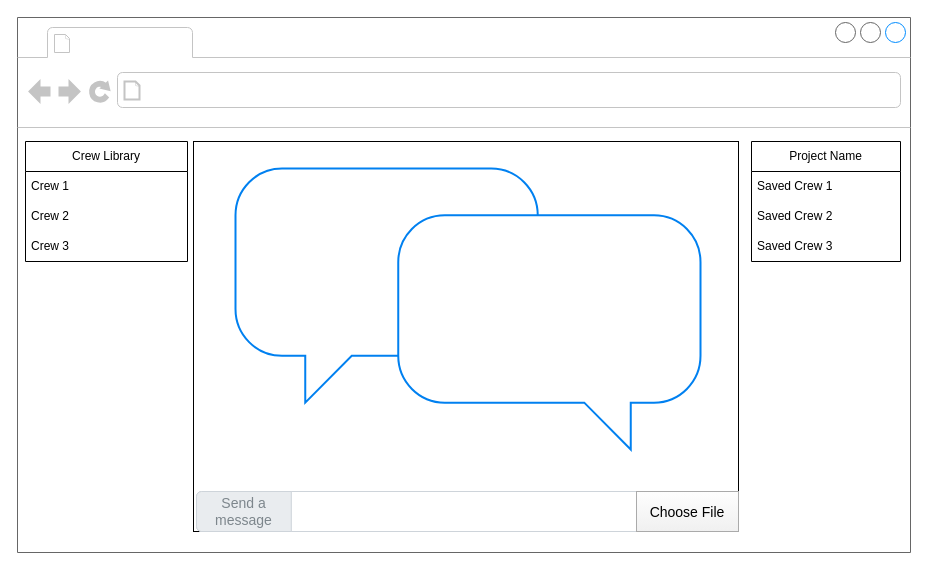
This 928x570 diagram has some shape labels left out. Here are the shapes that lost their labels. From the top down, the centre of each, then its label:
point 132,42: Page 1
point 272,90: http://localhost:#####
